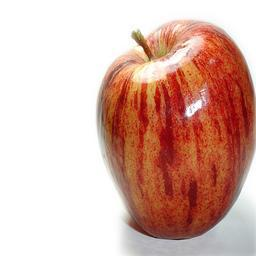apple: (99, 19, 256, 241)
